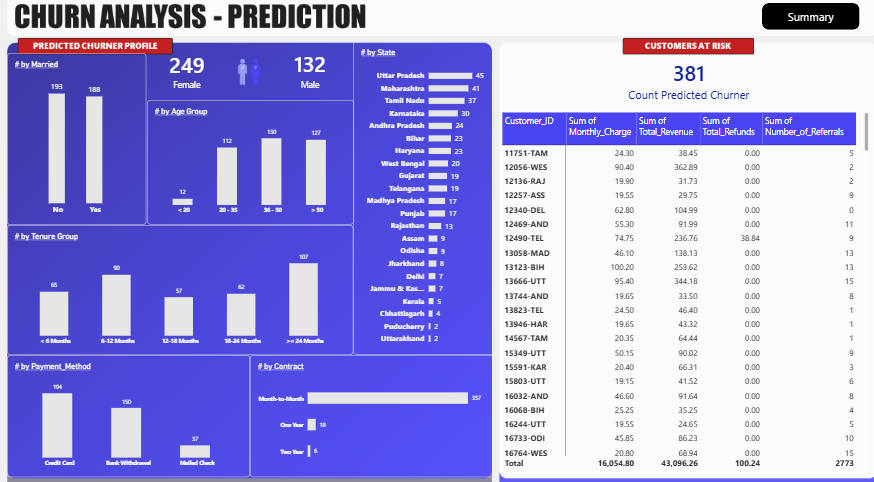

The dashboard page shown, as its layout file describes it:
{"tool":"powerbi","page":{"name":"Churn Prediction","canvas":[1920,1080],"ordinal":2},"visuals":[{"type":"pivotTable","fields":{"Rows":["Predictions.Customer_ID"],"Values":["Sum(Predictions.Monthly_Charge)","Sum(Predictions.Total_Revenue)","Sum(Predictions.Total_Refunds)","Sum(Predictions.Number_of_Referrals)"]},"box":[1075.9,252,826.5,803.8],"z":0},{"type":"cardVisual","fields":{"Data":["New Measures.Count Predicted Churner"]},"box":[1098.6,131,793.7,133.5],"z":1000},{"type":"cardVisual","fields":{"Data":["New Measures.Count Predicted Churner"]},"box":[320,110.9,173.9,133.5],"z":2000},{"type":"cardVisual","fields":{"Data":["New Measures.Count Predicted Churner"]},"box":[579.5,110.9,191.5,128.5],"z":3000},{"type":"clusteredColumnChart","fields":{"Category":["mapping_AgeGrp.Age Group"],"Y":["CountNonNull(Predictions.Customer_ID)"]},"box":[320,239.4,448.5,269.6],"z":4000},{"type":"clusteredColumnChart","fields":{"Category":["Predictions.Married"],"Y":["CountNonNull(Predictions.Customer_ID)"]},"box":[17.6,136.1,302.4,372.9],"z":5000},{"type":"clusteredColumnChart","fields":{"Category":["mapping_TenureGrp.Tenure Group"],"Y":["CountNonNull(Predictions.Customer_ID)"]},"box":[17.6,509,750.9,282.2],"z":6000},{"type":"clusteredColumnChart","fields":{"Category":["Predictions.Payment_Method"],"Y":["CountNonNull(Predictions.Customer_ID)"]},"box":[17.6,791.2,526.6,264.6],"z":7000},{"type":"clusteredBarChart","fields":{"Category":["Predictions.Contract"],"Y":["CountNonNull(Predictions.Customer_ID)"]},"box":[544.3,791.2,531.7,264.6],"z":8000},{"type":"clusteredBarChart","fields":{"Category":["Predictions.State"],"Y":["CountNonNull(Predictions.Customer_ID)"]},"box":[768.5,110.9,307.4,680.3],"z":9000},{"type":"image","box":[506.5,131,73.1,93.2],"z":10001},{"type":"actionButton","box":[1655.4,27.7,211.7,58],"z":10002}]}

Visuals, with their boxes in screenshot pixels (x1, y1, x2, y2), scaled from the page's 1920x1080 canvas onto the 874x482 screenshot:
pivotTable - Predictions.Customer_ID x Sum(Predictions.Monthly_Charge): [490,112,866,471]
cardVisual - New Measures.Count Predicted Churner: [500,58,861,118]
cardVisual - New Measures.Count Predicted Churner: [146,49,225,109]
cardVisual - New Measures.Count Predicted Churner: [264,49,351,107]
clusteredColumnChart - mapping_AgeGrp.Age Group x CountNonNull(Predictions.Customer_ID): [146,107,350,227]
clusteredColumnChart - Predictions.Married x CountNonNull(Predictions.Customer_ID): [8,61,146,227]
clusteredColumnChart - mapping_TenureGrp.Tenure Group x CountNonNull(Predictions.Customer_ID): [8,227,350,353]
clusteredColumnChart - Predictions.Payment_Method x CountNonNull(Predictions.Customer_ID): [8,353,248,471]
clusteredBarChart - Predictions.Contract x CountNonNull(Predictions.Customer_ID): [248,353,490,471]
clusteredBarChart - Predictions.State x CountNonNull(Predictions.Customer_ID): [350,49,490,353]
image: [231,58,264,100]
actionButton: [754,12,850,38]
